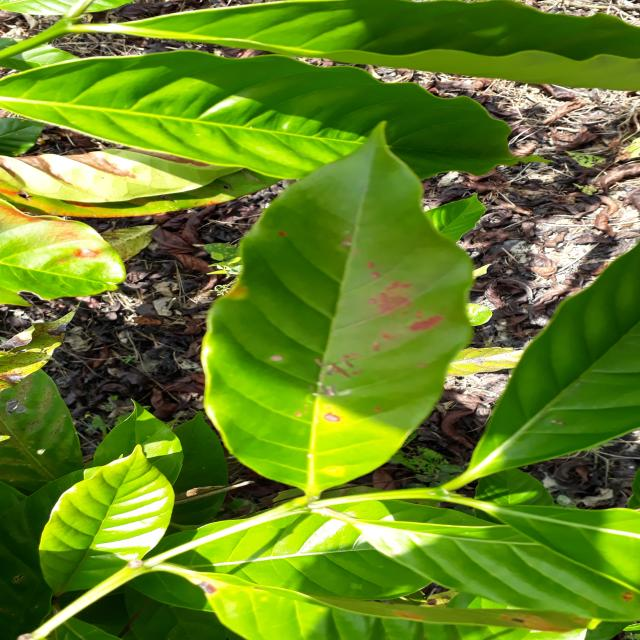Plaga-AranaRoja: (201, 124, 475, 502)
